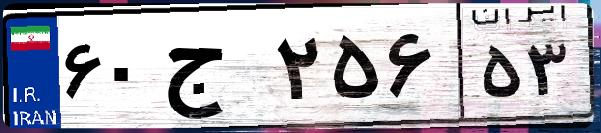0: (110, 28, 158, 98)
2: (270, 28, 330, 110)
3: (525, 38, 570, 115)
5: (330, 28, 385, 110), (475, 38, 525, 113)
6: (385, 28, 445, 110), (57, 26, 110, 100)
ج: (158, 20, 270, 120)
